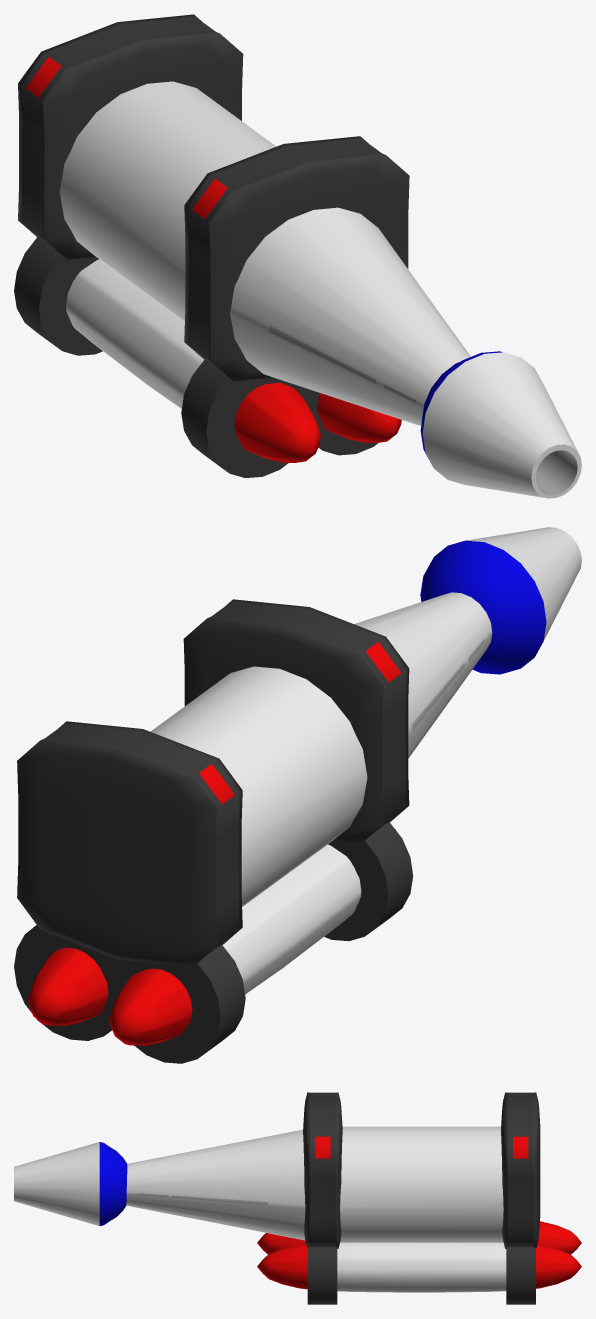
Rendered from laser.fbx.
3 renders of one model, top to bottom at view 1: azimuth 30°, elevation 25°; view 2: azimuth 150°, elevation 25°; view 3: azimuth 270°, elevation 25°, orthographic. The views are drawn at different scales.
Parts seen in each view (by area): view 1: laser; view 2: laser; view 3: laser.
Part boxes in pixels (x1=…): laser: x1=14, y1=14, x2=581, y2=498; laser: x1=14, y1=527, x2=581, y2=1063; laser: x1=14, y1=1092, x2=581, y2=1304.
Bounding box in the file's own units: 2.18 × 3.04 × 8.72.
